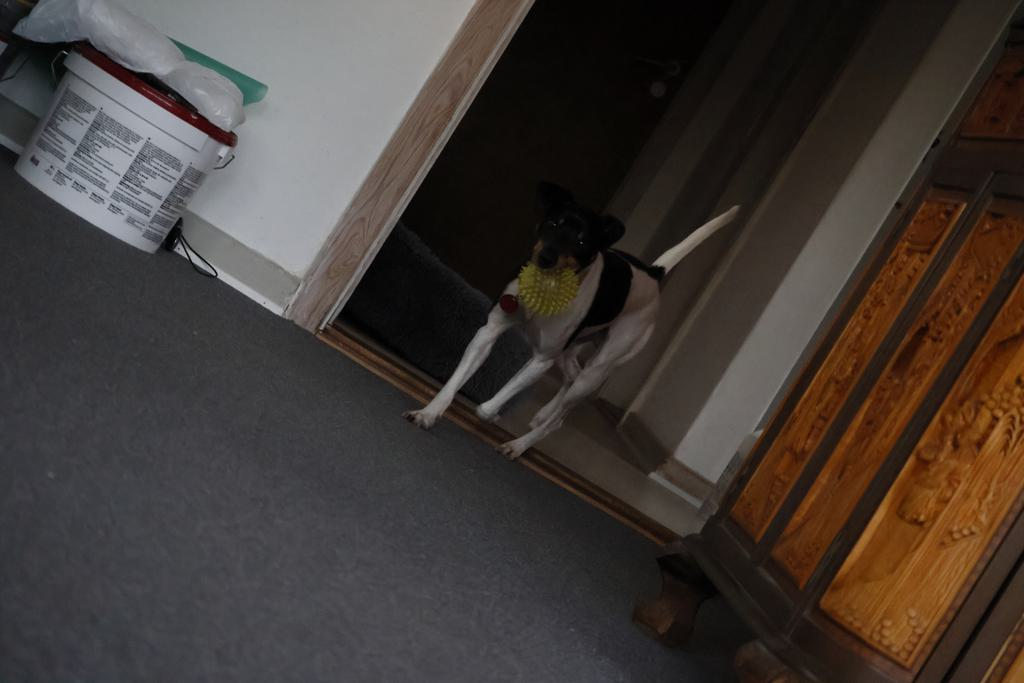Dog: (392, 179, 747, 468)
